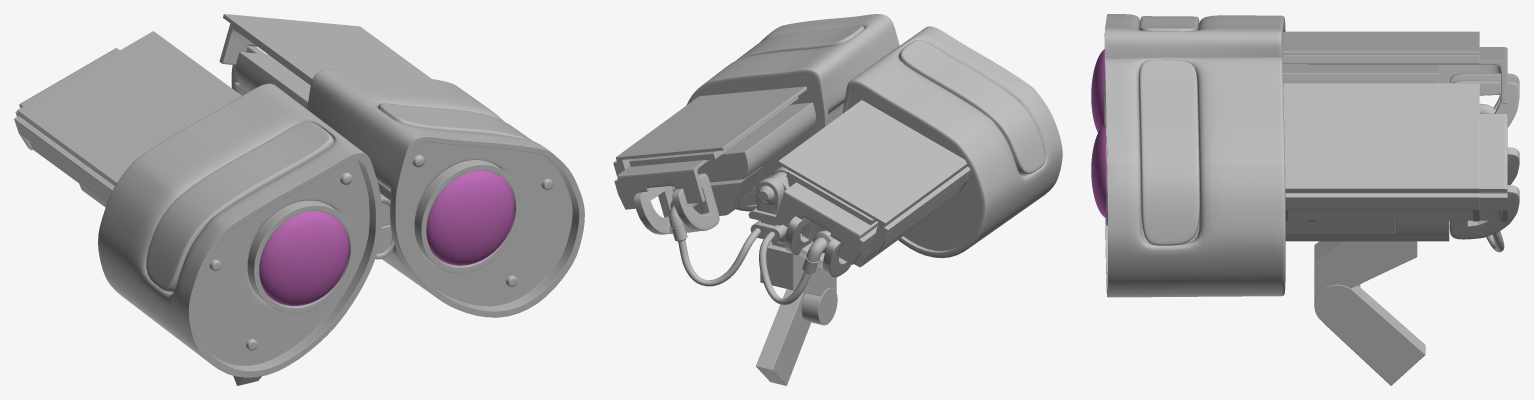
File: walle-exportado.compressed.glb
The picture shows the model from 3 angles, left to right: view 1: azimuth 30°, elevation 25°; view 2: azimuth 150°, elevation 25°; view 3: azimuth 270°, elevation 25°; orthographic projection. The views are drawn at different scales.
Parts seen in each view (by area): view 1: polySurface14; view 2: polySurface14; view 3: polySurface14.
Part boxes in pixels (x1=…): polySurface14: x1=14, y1=14, x2=584, y2=385; polySurface14: x1=613, y1=14, x2=1062, y2=385; polySurface14: x1=1091, y1=14, x2=1519, y2=385.
Size of the model in its own units: 5.44 by 4.64 by 5.43.
